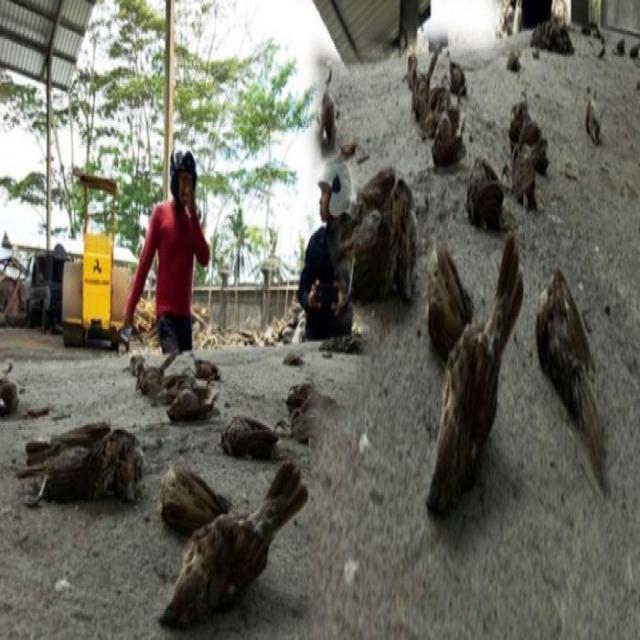Bangkai Burung: (407, 18, 568, 260), (401, 252, 542, 528), (148, 444, 324, 621), (531, 250, 611, 472), (125, 302, 248, 442), (34, 391, 140, 548), (216, 377, 320, 502), (352, 153, 428, 295), (423, 46, 489, 193), (461, 121, 516, 255), (501, 67, 552, 204), (584, 74, 626, 179), (318, 52, 357, 157)
